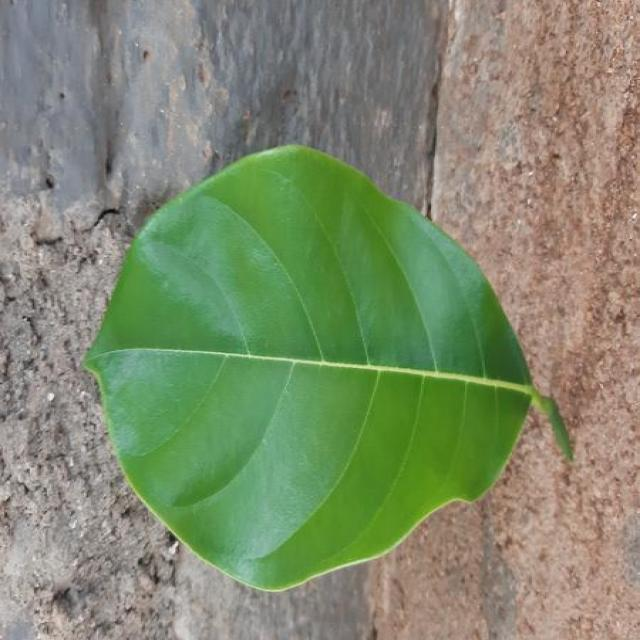Jackfruit: (87, 146, 537, 589)
